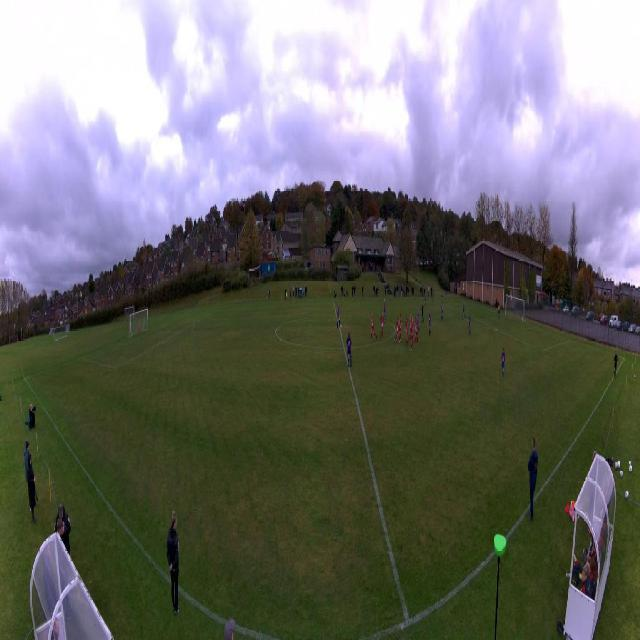ball: (340, 324, 342, 328)
player: (347, 332, 353, 367), (370, 312, 377, 340), (501, 348, 506, 380), (379, 312, 385, 338), (408, 313, 413, 341), (337, 303, 342, 329), (395, 317, 400, 342), (398, 314, 402, 343), (414, 317, 418, 345), (410, 323, 414, 351), (404, 318, 408, 343), (416, 309, 420, 331), (421, 303, 425, 324), (428, 312, 431, 336), (383, 298, 386, 322), (468, 313, 471, 335), (441, 303, 444, 322), (497, 303, 500, 321), (462, 303, 465, 319), (138, 322, 141, 336), (424, 294, 426, 308)
